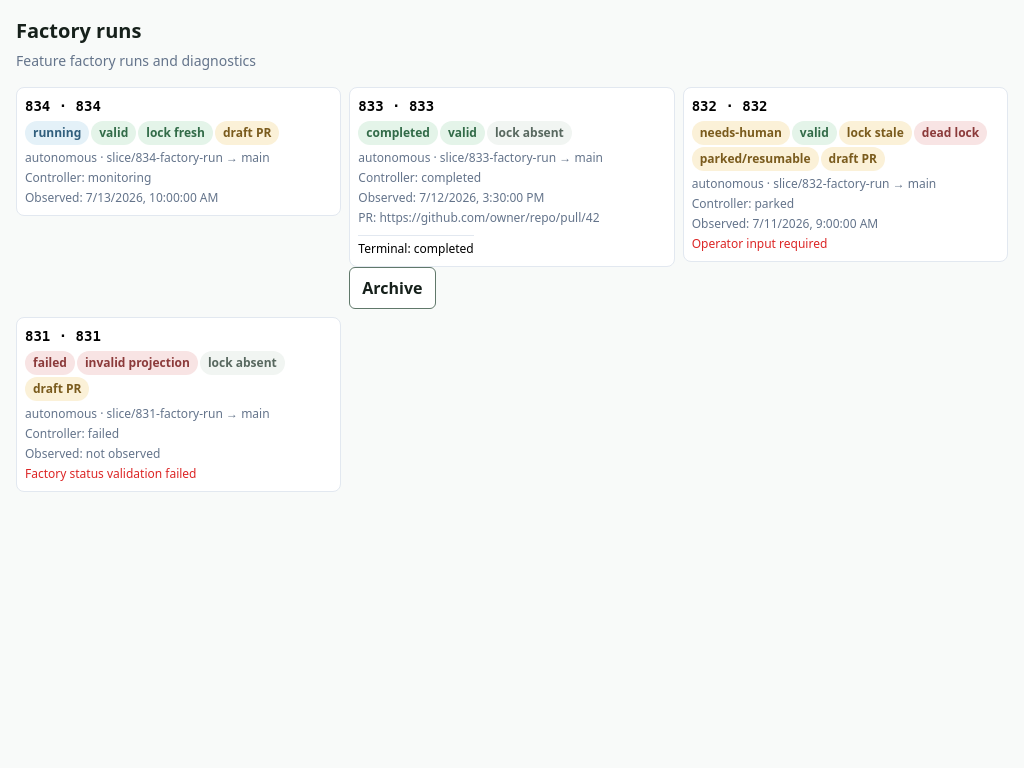
Scenario: FactoryRunsRoute › shows the server refusal and retains the row
Click the button with aria-label "Archive run 833" at [392, 288], box 349,267 -> 436,309
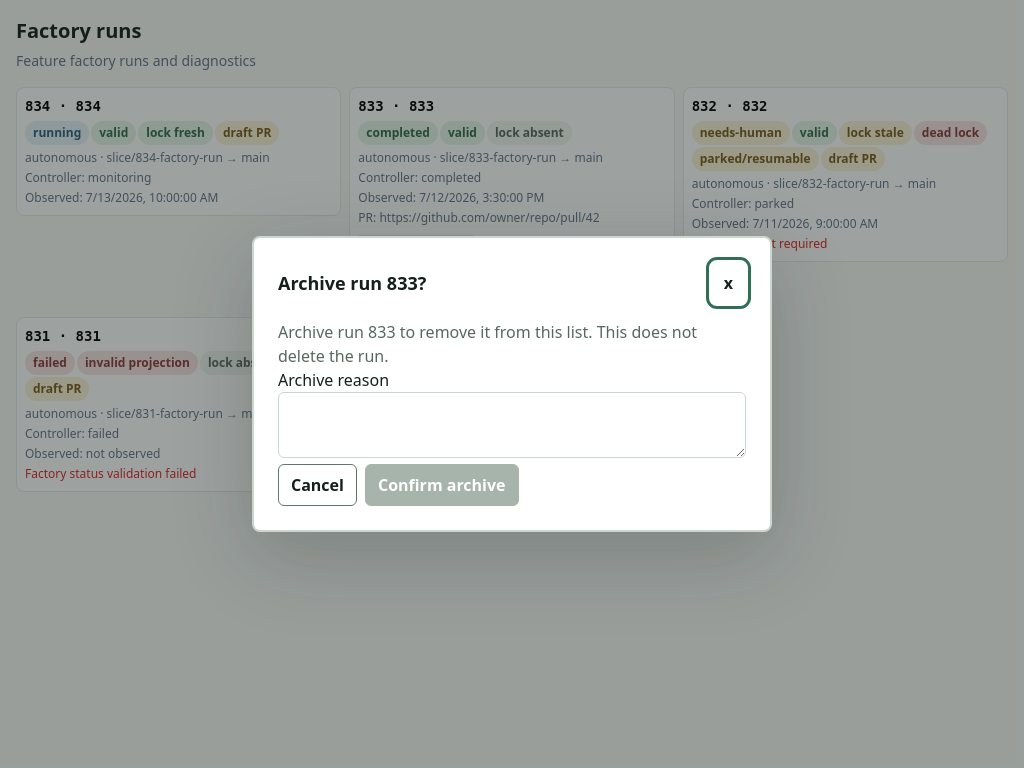
Type "Finished run" into the text box labelled "Archive reason" at [512, 425], box 278,392 -> 746,458
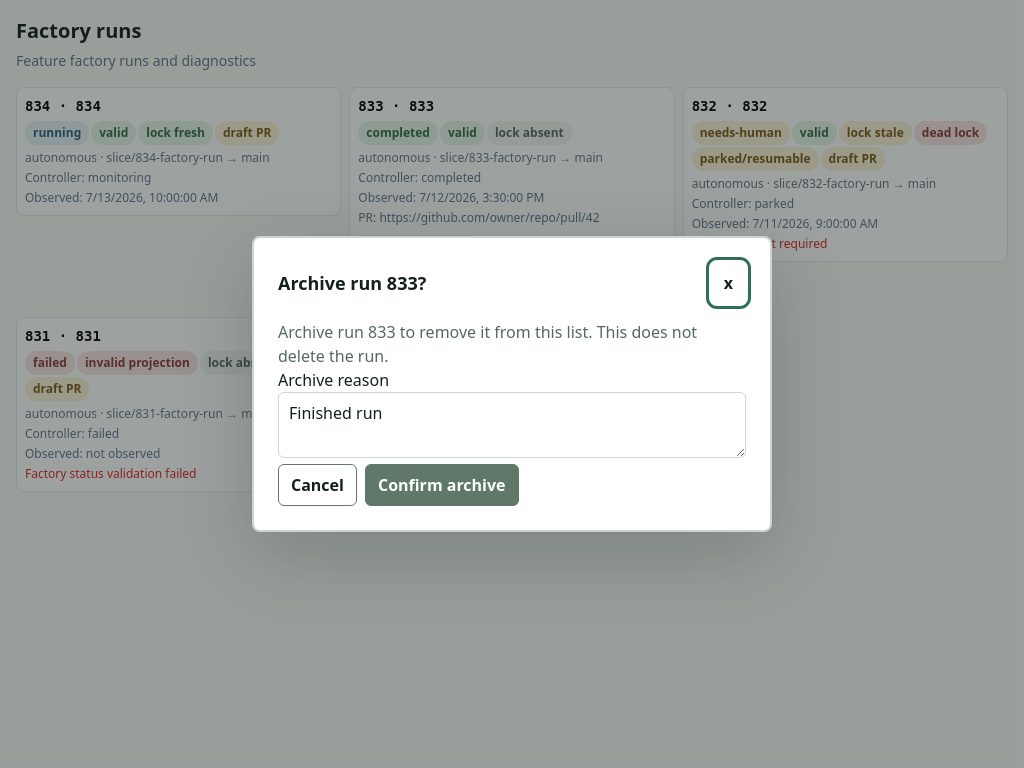
Click the button "Confirm archive" at [442, 485], box 365,464 -> 518,506
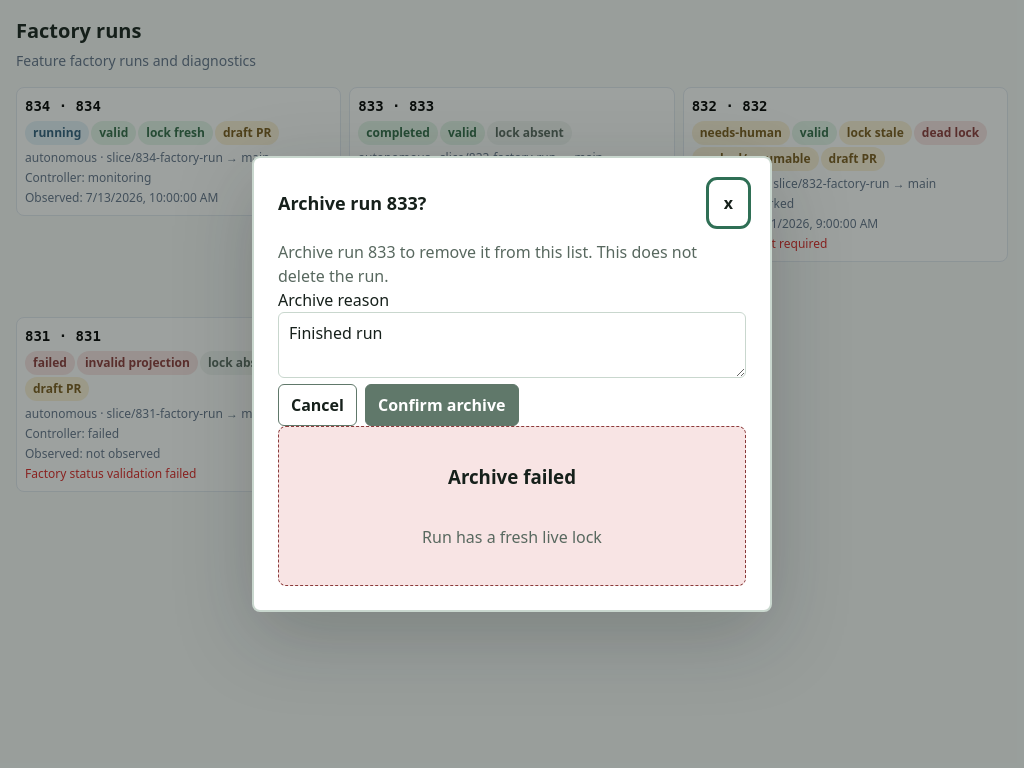
Expected: the button with test id "factory-run-833" is shown, 349,87 -> 675,267
Expected: the button "Confirm archive" is enabled, 365,384 -> 518,426
Expected: the text "Run has a fresh live lock" is shown, 422,524 -> 602,548
